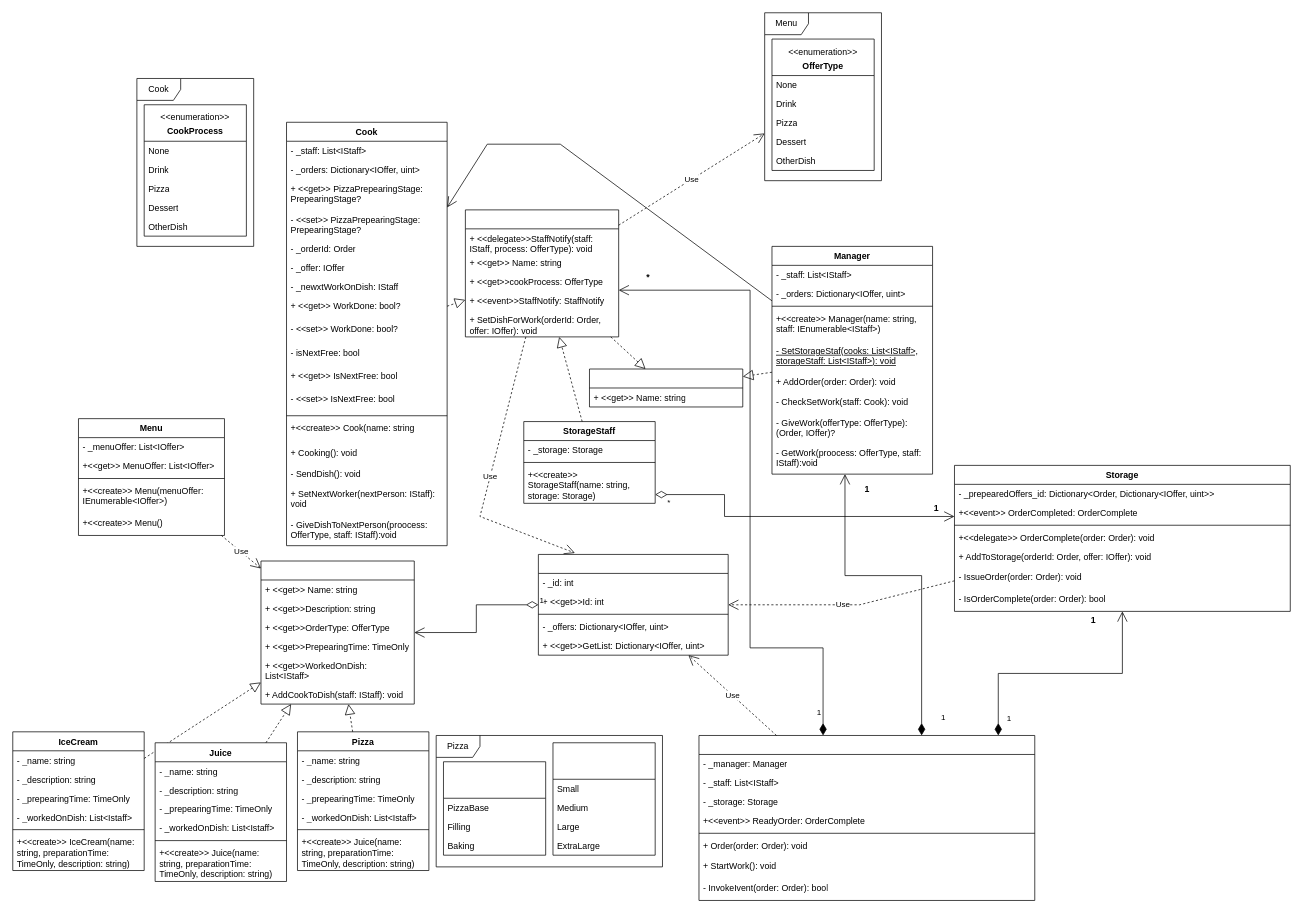
This 1303x915 diagram has some shape labels left out. Each missing label, with the box of its shape:
<<enumeration>> PizzaSize: (552, 742, 655, 855)
<<enumeration>> PrepearingStage: (443, 761, 546, 855)
<<interface>> IOffer: (260, 560, 414, 704)
<<interface>> IPerson: (589, 368, 743, 407)
<<interface>> IStaff: (465, 209, 619, 337)
Kitchen: (698, 735, 1035, 900)
Order: (538, 554, 728, 655)
